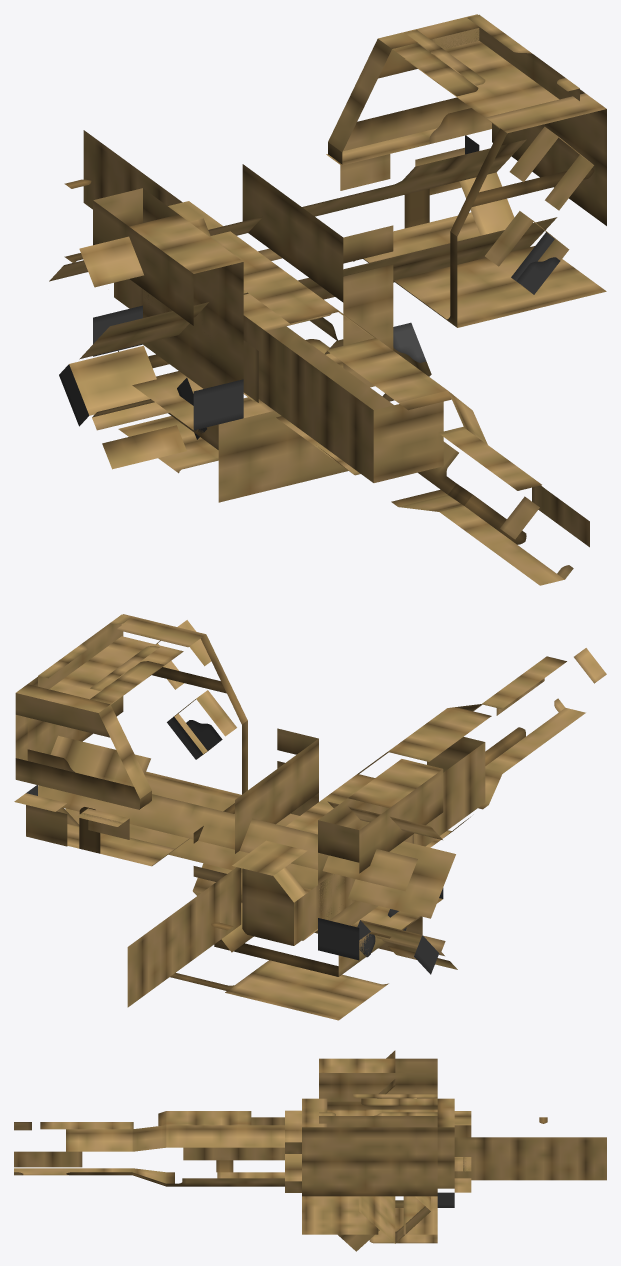
Rendered from tow_turret.obj.
3 views of the same model, one above another, from view 1: azimuth 30°, elevation 25°; view 2: azimuth 150°, elevation 25°; view 3: azimuth 270°, elevation 25° (orthographic). The views are drawn at different scales.
Visible parts, largest first — view 1: ttt; view 2: ttt; view 3: ttt.
Part boxes in pixels (x1,y1,x2,y2): ttt: [49, 14, 606, 585]; ttt: [14, 614, 606, 1020]; ttt: [14, 1050, 606, 1251].
Size of the model in its own units: 1.12 by 0.7812 by 2.19.
